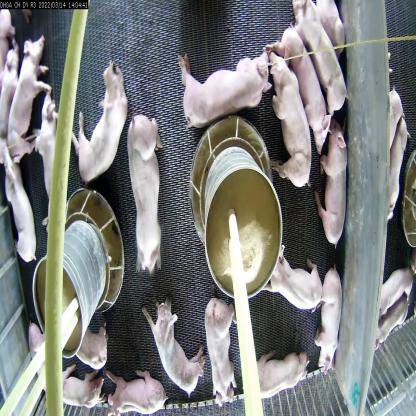Pig: (70, 49, 129, 186), (268, 20, 328, 151), (264, 30, 312, 192), (292, 0, 350, 118), (124, 112, 165, 276), (144, 295, 205, 398), (180, 53, 266, 125), (311, 104, 347, 250), (32, 93, 66, 234), (2, 143, 40, 266), (11, 35, 44, 157), (270, 244, 323, 312), (204, 295, 237, 404), (68, 306, 112, 375), (104, 370, 166, 416), (314, 271, 342, 370), (28, 319, 58, 403), (58, 359, 103, 410), (250, 350, 306, 390), (374, 262, 416, 313), (378, 305, 414, 349)
